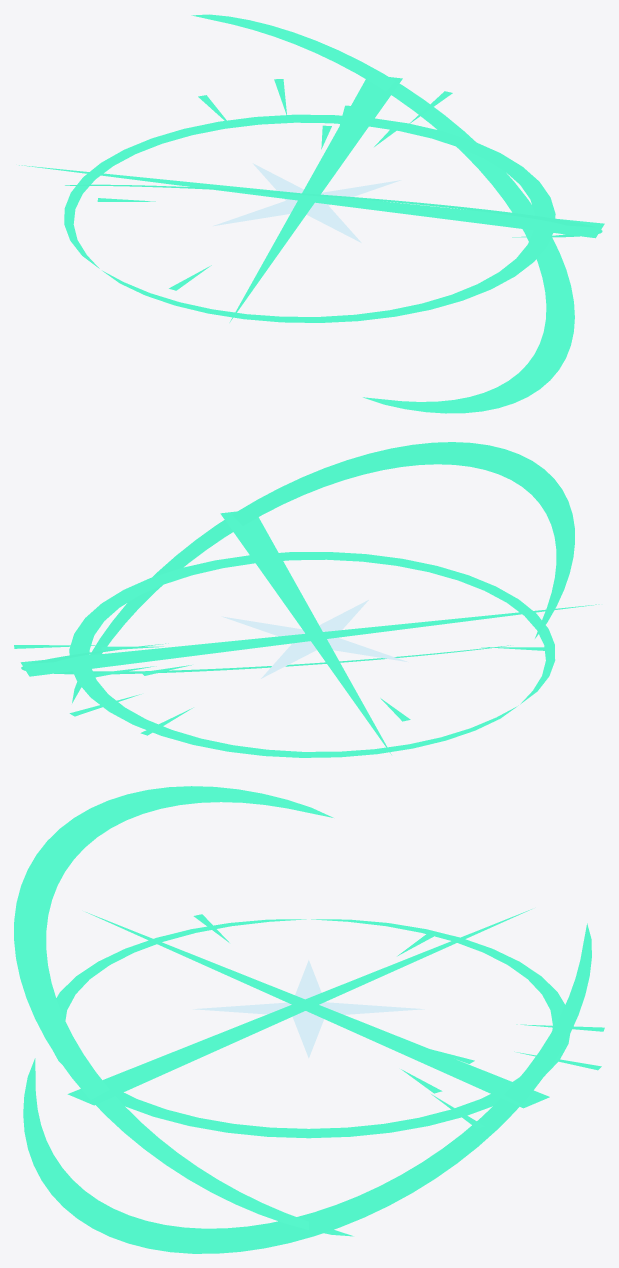
File: Mes_ScissorSnap.glb
3 views of the same model, one above another, from view 1: azimuth 30°, elevation 25°; view 2: azimuth 150°, elevation 25°; view 3: azimuth 270°, elevation 25° (orthographic). The views are drawn at different scales.
Visible parts, largest first — view 1: Mes_ScissorSnap_Blade1, Mes_ScissorSnap_SnapRing, Mes_ScissorSnap_CrossB, Mes_ScissorSnap_CrossA, Mes_ScissorSnap_Pivot, Mes_ScissorSnap_Blade-1; view 2: Mes_ScissorSnap_Blade-1, Mes_ScissorSnap_SnapRing, Mes_ScissorSnap_CrossA, Mes_ScissorSnap_CrossB, Mes_ScissorSnap_Pivot, Mes_ScissorSnap_Blade1; view 3: Mes_ScissorSnap_Blade-1, Mes_ScissorSnap_Blade1, Mes_ScissorSnap_SnapRing, Mes_ScissorSnap_CrossB, Mes_ScissorSnap_CrossA, Mes_ScissorSnap_Pivot.
Part boxes in pixels (x1,y1,x2,y2): Mes_ScissorSnap_Blade1: (191,14,574,413); Mes_ScissorSnap_SnapRing: (64,114,555,322); Mes_ScissorSnap_CrossB: (19,165,604,238); Mes_ScissorSnap_CrossA: (229,77,402,322); Mes_ScissorSnap_Pivot: (213,163,401,242); Mes_ScissorSnap_Blade-1: (65,184,602,237); Mes_ScissorSnap_Blade-1: (72,442,574,703); Mes_ScissorSnap_SnapRing: (69,552,555,757); Mes_ScissorSnap_CrossA: (20,604,599,676); Mes_ScissorSnap_CrossB: (220,511,391,754); Mes_ScissorSnap_Pivot: (221,600,408,678); Mes_ScissorSnap_Blade1: (21,643,510,674); Mes_ScissorSnap_Blade-1: (14,786,353,1236); Mes_ScissorSnap_Blade1: (23,923,591,1253); Mes_ScissorSnap_SnapRing: (53,919,569,1138); Mes_ScissorSnap_CrossB: (67,909,531,1105); Mes_ScissorSnap_CrossA: (86,912,549,1108); Mes_ScissorSnap_Pivot: (193,960,424,1058).
Bounding box in the file's own units: 0.00187 × 0.000956 × 0.00187.
